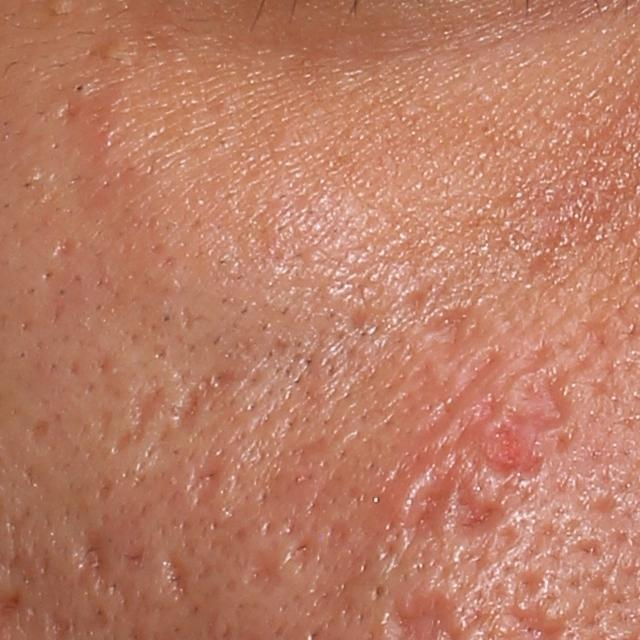atrophic_scar: (465, 371, 569, 477), (403, 467, 453, 543), (455, 486, 518, 544), (0, 518, 53, 586), (103, 393, 159, 455), (180, 375, 235, 428), (182, 455, 225, 511), (244, 543, 286, 599), (430, 307, 476, 346), (80, 526, 113, 579), (161, 549, 195, 600), (289, 530, 322, 574), (47, 234, 77, 262), (180, 300, 205, 332), (28, 418, 51, 443)
comedo: (100, 33, 123, 62)
